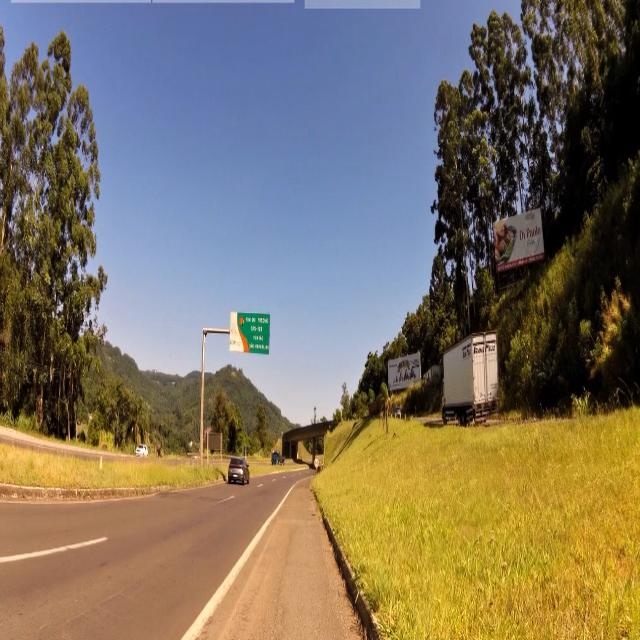I-4: (237, 312, 269, 354)
